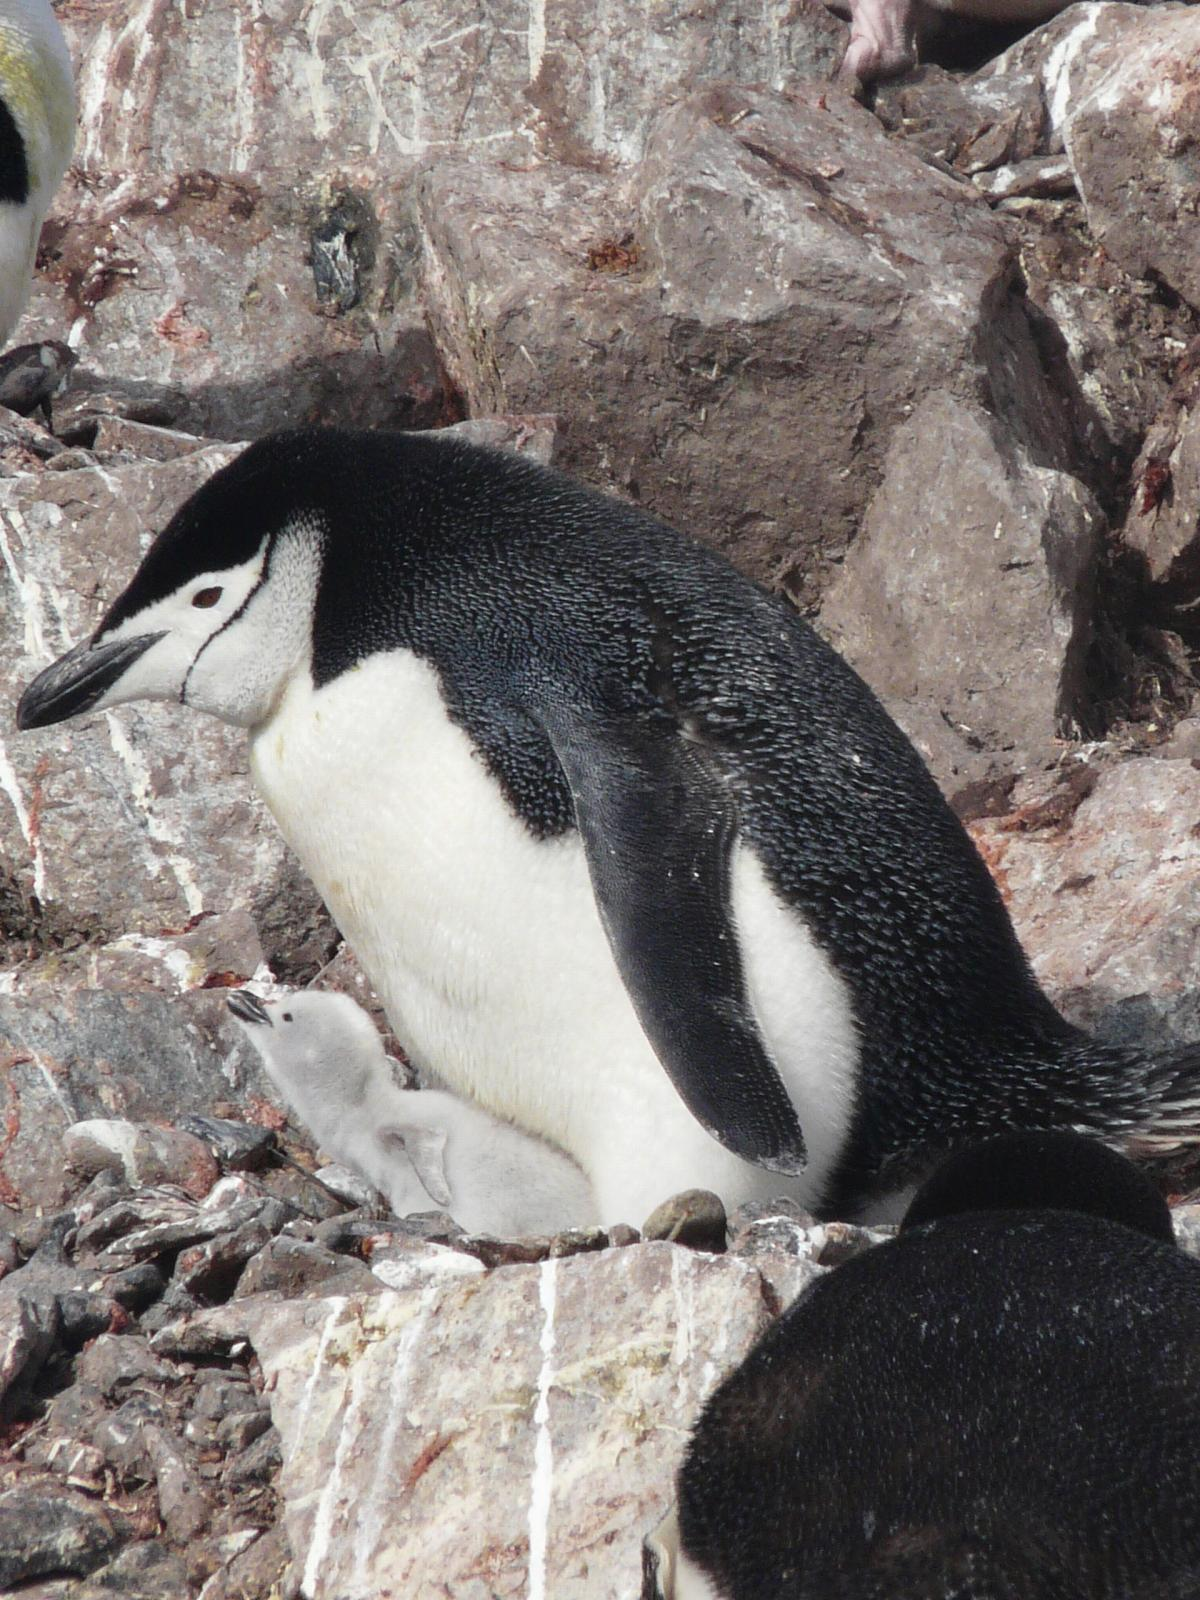chinstrap: (0, 425, 1200, 1260)
